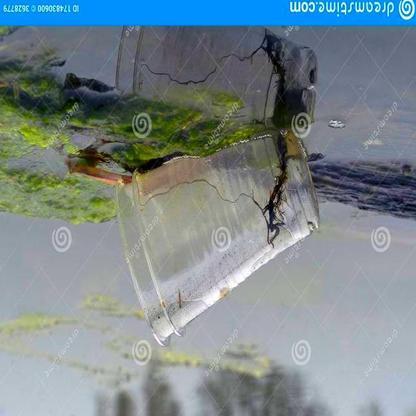plastic bottle: (112, 132, 322, 347)
